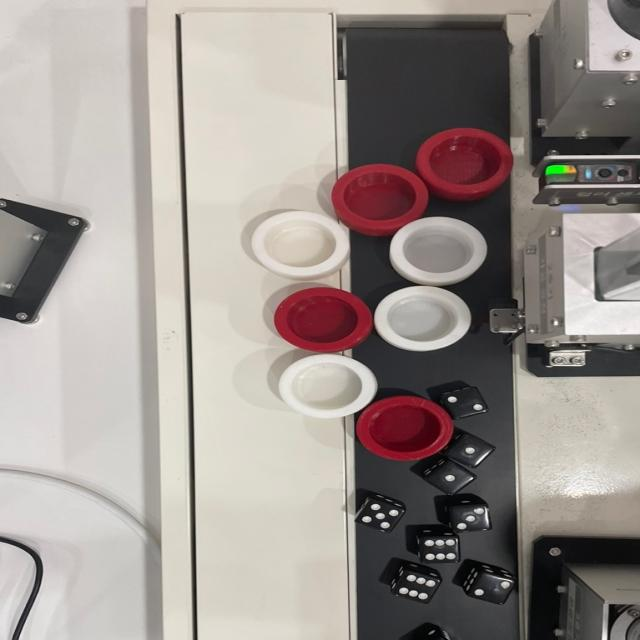DICE1: (450, 436, 489, 462), (430, 466, 468, 491)
DICE2: (467, 574, 517, 608), (440, 386, 488, 417)
DICE3: (449, 502, 495, 532)
DICE5: (354, 497, 401, 530)
DICE6: (391, 574, 440, 602), (422, 536, 455, 562)
RedChip: (417, 120, 521, 194), (272, 286, 372, 352), (333, 161, 423, 219), (361, 409, 445, 454)
WhiteChip: (376, 288, 480, 355), (243, 218, 343, 279), (402, 224, 497, 276), (282, 356, 359, 412)
